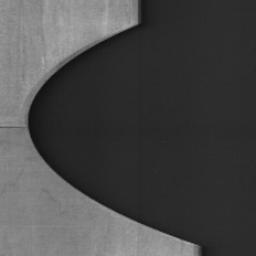Crescent gap: (27, 24, 195, 244)
